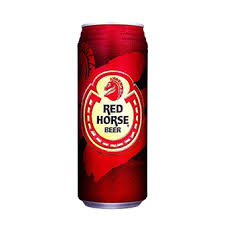can: (74, 19, 151, 213)
